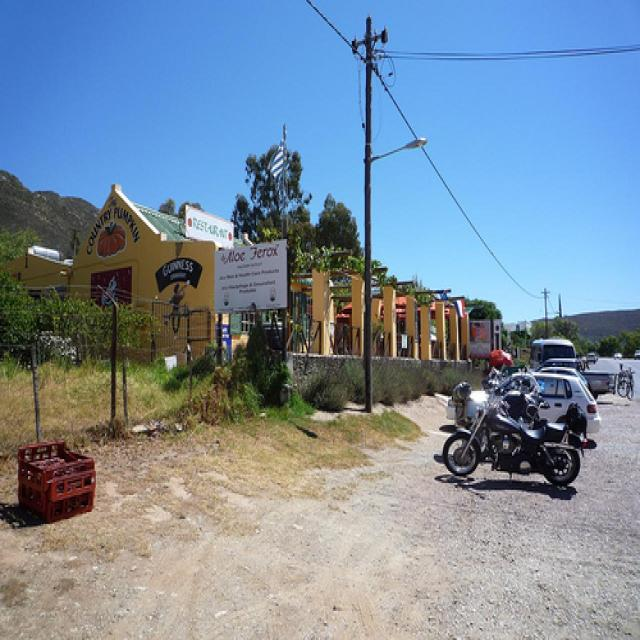motor: (440, 373, 592, 489), (448, 381, 552, 431)
